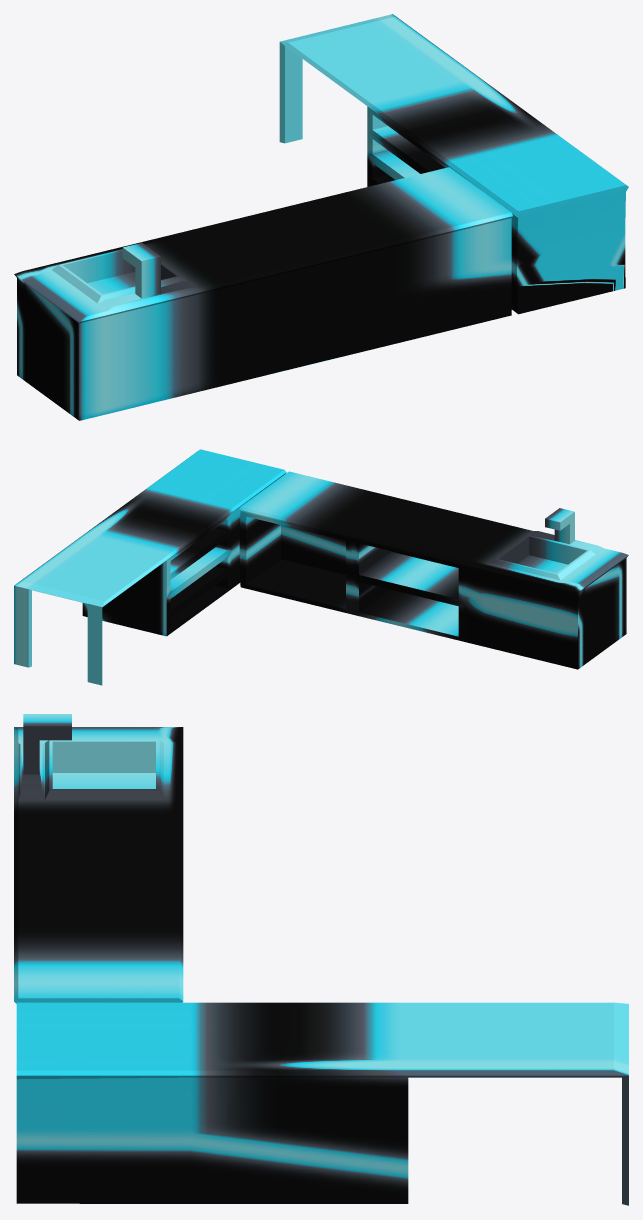
File: cornerLabtable.obj
3 views of the same model, one above another, from view 1: azimuth 30°, elevation 25°; view 2: azimuth 150°, elevation 25°; view 3: azimuth 270°, elevation 25° (orthographic). The views are drawn at different scales.
Parts seen in each view (by area): view 1: pasted__polySurface2; view 2: pasted__polySurface2; view 3: pasted__polySurface2.
Boxes of the visible parts, x1,y1,x2,y2 form: pasted__polySurface2: (14,14,628,420); pasted__polySurface2: (14,449,628,685); pasted__polySurface2: (14,714,628,1205).
Size of the model in its own units: 5.11 by 1.26 by 3.81.
